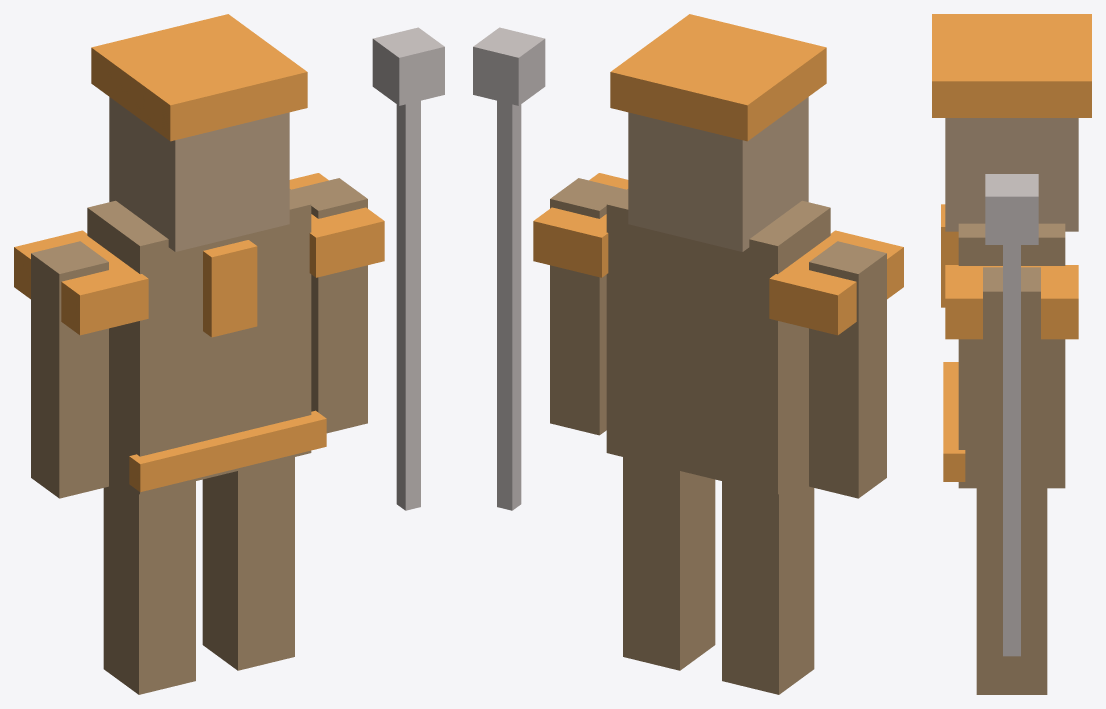
Rendered from 20_maven_riftwalker_smith_of_war.glb.
3 renders of one model, left to right at view 1: azimuth 30°, elevation 25°; view 2: azimuth 150°, elevation 25°; view 3: azimuth 270°, elevation 25°, orthographic.
Visible parts, largest first — view 1: Maven Riftwalker, Smith of War; view 2: Maven Riftwalker, Smith of War; view 3: Maven Riftwalker, Smith of War.
Part boxes in pixels (x1,y1,x2,y2): Maven Riftwalker, Smith of War: (14, 14, 444, 694); Maven Riftwalker, Smith of War: (473, 14, 903, 694); Maven Riftwalker, Smith of War: (932, 14, 1091, 694).
Bounding box in the file's own units: 1.02 × 1.51 × 0.3601.
